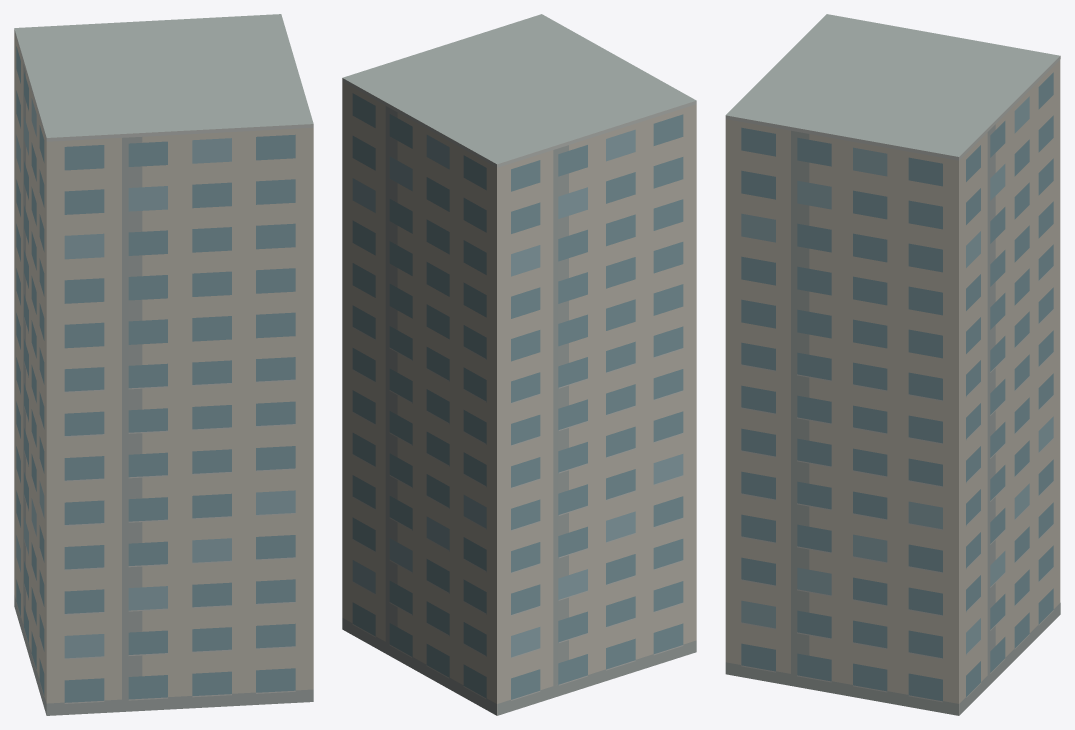
File: residential-1f24d162-ba20-4b17-aed3-50a93aabd228.glb
The picture shows the model from 3 angles, left to right: view 1: azimuth 30°, elevation 25°; view 2: azimuth 150°, elevation 25°; view 3: azimuth 270°, elevation 25°; orthographic projection. The views are drawn at different scales.
Parts seen in each view (by area): view 1: residential-1f24d162-ba20-4b17-aed3-50a93aabd228.tmp; view 2: residential-1f24d162-ba20-4b17-aed3-50a93aabd228.tmp; view 3: residential-1f24d162-ba20-4b17-aed3-50a93aabd228.tmp.
Part boxes in pixels (x1=…): residential-1f24d162-ba20-4b17-aed3-50a93aabd228.tmp: x1=14, y1=14, x2=313, y2=715; residential-1f24d162-ba20-4b17-aed3-50a93aabd228.tmp: x1=342, y1=14, x2=696, y2=715; residential-1f24d162-ba20-4b17-aed3-50a93aabd228.tmp: x1=725, y1=14, x2=1060, y2=715.
Bounding box in the file's own units: 20.31 × 37 × 20.1.
